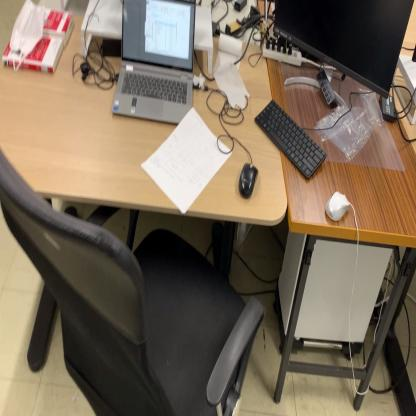chair: (1, 145, 264, 415)
